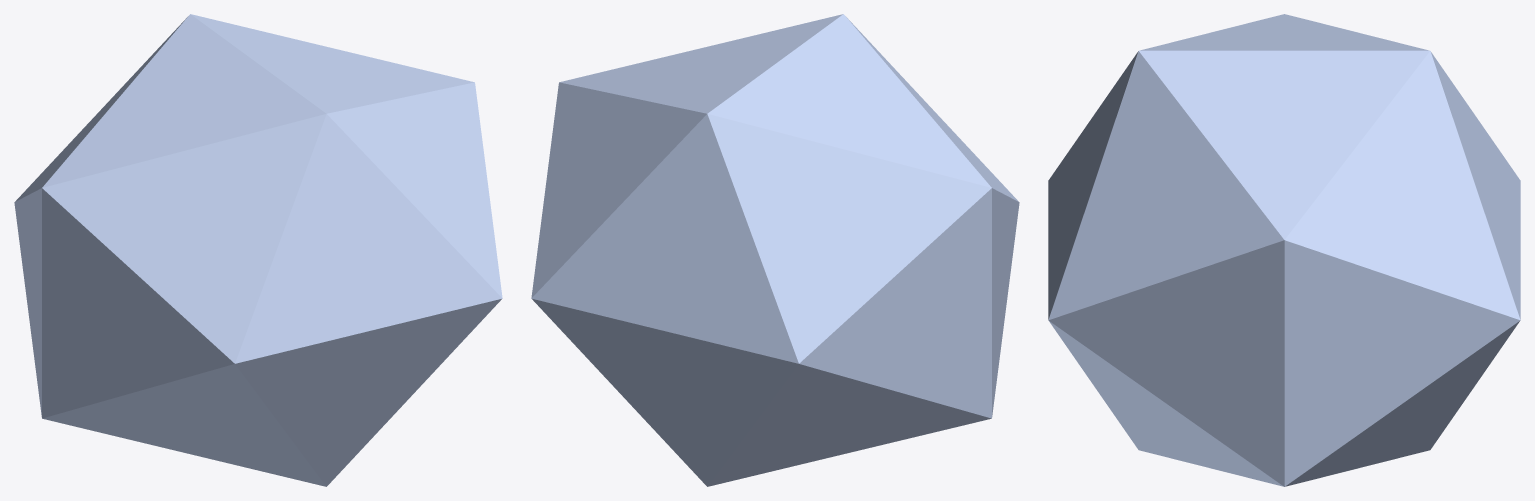
The model's file is puff.glb.
The picture shows the model from 3 angles, left to right: view 1: azimuth 30°, elevation 25°; view 2: azimuth 150°, elevation 25°; view 3: azimuth 270°, elevation 25°; orthographic projection. The views are drawn at different scales.
Parts seen in each view (by area): view 1: Puff; view 2: Puff; view 3: Puff.
Part boxes in pixels (<box>): Puff: <box>14,14,502,486</box>; Puff: <box>531,14,1019,486</box>; Puff: <box>1048,14,1520,486</box>.
Bounding box in the file's own units: 0.2892 × 0.2382 × 0.2552.
